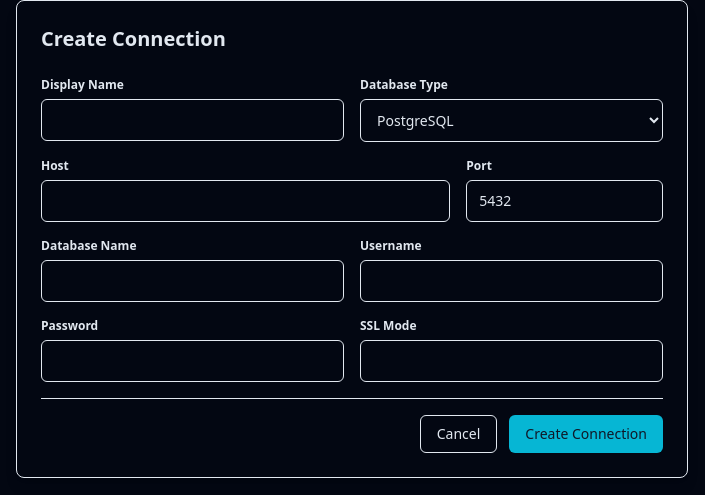
it: ConnectionForm › database type switch auto-fills the expected port
The width and height of the screenshot is (705, 495).
Expected: the number field labelled "Port" holds "5432", [466,180,663,222]
// Switch to mysql
Select "MySQL" in the dropdown labelled "Database Type": (512,120) [360,99,663,142]
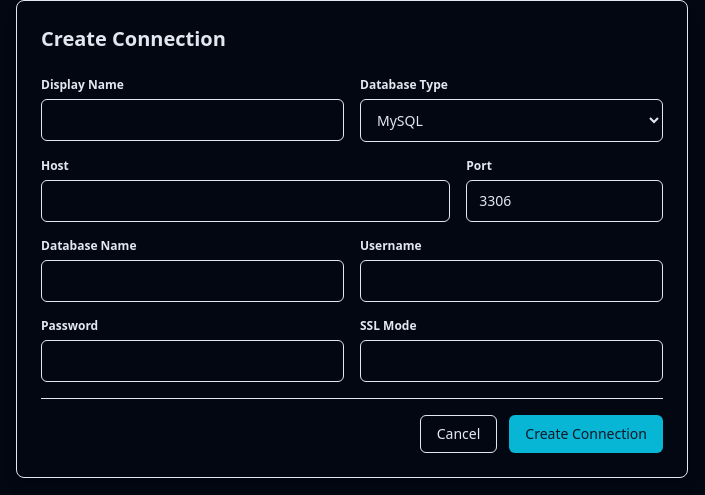
Expected: the number field labelled "Port" holds "3306", [466,180,663,222]
// Switch to mssql
Select "MS SQL Server" in the dropdown labelled "Database Type": (512,120) [360,99,663,142]
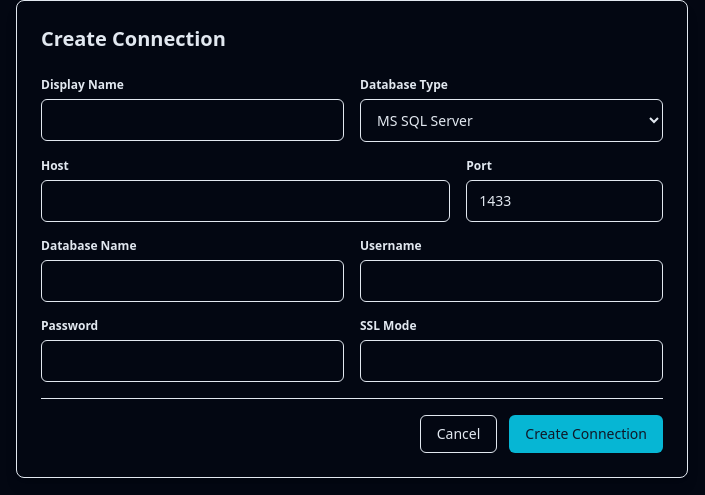
Expected: the number field labelled "Port" holds "1433", [466,180,663,222]
